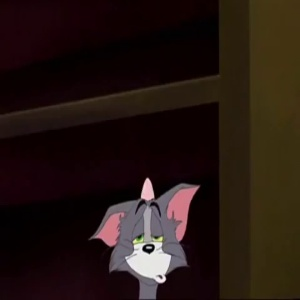Tom: (94, 177, 189, 282)
